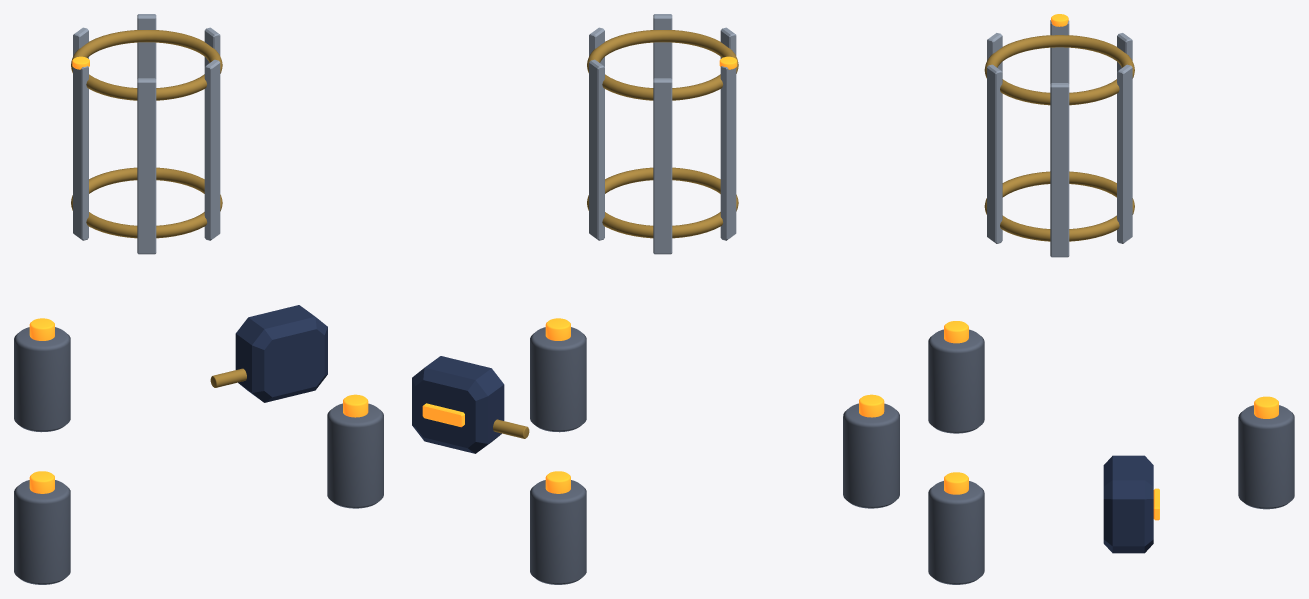
The model's file is tower_overclock_potency_s5.glb.
3 renders of one model, left to right at view 1: azimuth 30°, elevation 25°; view 2: azimuth 150°, elevation 25°; view 3: azimuth 270°, elevation 25°, orthographic.
Parts seen in each view (by area): view 1: overclock_trap_coupler, overclock_cap1, overclock_cap2, overclock_cap0, overclock_vane5, overclock_conductor1.98, overclock_vane4, overclock_conductor1.5, overclock_vane0, overclock_vane2, overclock_cap_top1, overclock_cap_top2 (+1 smaller); view 2: overclock_trap_coupler, overclock_cap2, overclock_cap0, overclock_cap1, overclock_vane1, overclock_conductor1.98, overclock_vane0, overclock_conductor1.5, overclock_vane2, overclock_vane4, overclock_trap_coupler_face; view 3: overclock_cap2, overclock_cap1, overclock_cap0, overclock_trap_coupler, overclock_vane3, overclock_conductor1.98, overclock_conductor1.5, overclock_vane2, overclock_vane4, overclock_vane0, overclock_cap_top1, overclock_cap_top2 (+1 smaller).
Boxes of the visible parts, x1,y1,x2,y2 form: overclock_trap_coupler: [235, 305, 327, 402]; overclock_cap1: [327, 403, 383, 508]; overclock_cap2: [14, 480, 70, 584]; overclock_cap0: [14, 327, 70, 432]; overclock_vane5: [137, 78, 156, 254]; overclock_conductor1.98: [71, 30, 222, 100]; overclock_vane4: [204, 59, 220, 240]; overclock_conductor1.5: [71, 167, 222, 238]; overclock_vane0: [73, 66, 88, 240]; overclock_vane2: [137, 14, 156, 78]; overclock_cap_top1: [343, 394, 368, 417]; overclock_cap_top2: [29, 471, 54, 493]; overclock_trap_coupler: [412, 356, 504, 453]; overclock_cap2: [843, 403, 899, 508]; overclock_cap0: [530, 480, 586, 584]; overclock_cap1: [530, 327, 586, 432]; overclock_vane1: [653, 78, 672, 254]; overclock_conductor1.98: [587, 30, 738, 100]; overclock_vane0: [720, 66, 736, 240]; overclock_conductor1.5: [587, 167, 738, 238]; overclock_vane2: [589, 59, 604, 240]; overclock_vane4: [653, 14, 672, 78]; overclock_trap_coupler_face: [422, 403, 464, 427]; overclock_cap2: [928, 329, 984, 433]; overclock_cap1: [928, 481, 984, 584]; overclock_cap0: [1238, 405, 1294, 509]; overclock_trap_coupler: [1103, 455, 1153, 553]; overclock_vane3: [1050, 83, 1069, 257]; overclock_conductor1.98: [984, 35, 1134, 105]; overclock_conductor1.5: [984, 171, 1134, 241]; overclock_vane2: [1117, 64, 1132, 243]; overclock_vane4: [987, 64, 1002, 243]; overclock_vane0: [1050, 20, 1069, 83]; overclock_cap_top1: [944, 472, 968, 494]; overclock_cap_top2: [944, 321, 968, 343].
Bounding box in the file's own units: 1.42 × 1.58 × 1.17.
